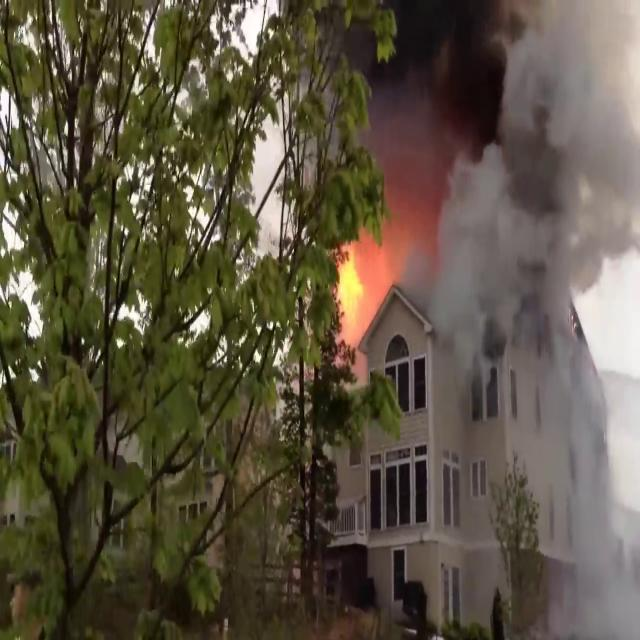Fire: (329, 225, 398, 354)
Smoke: (403, 0, 640, 413)
